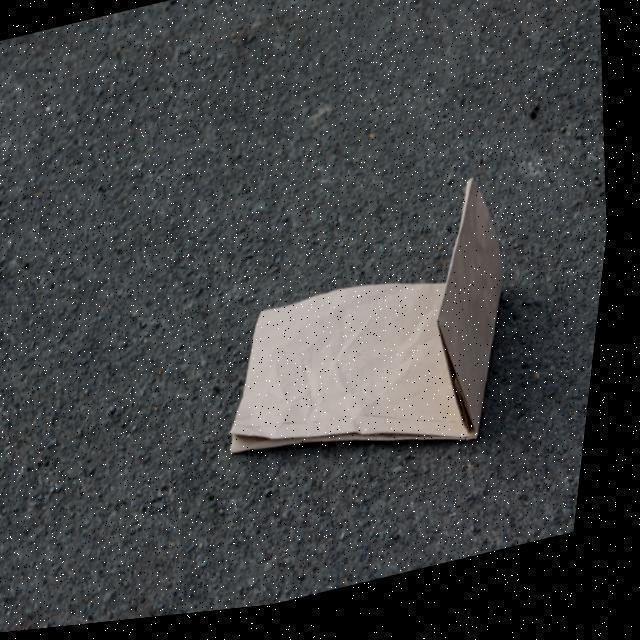Paper_Bag: (205, 179, 542, 508)
